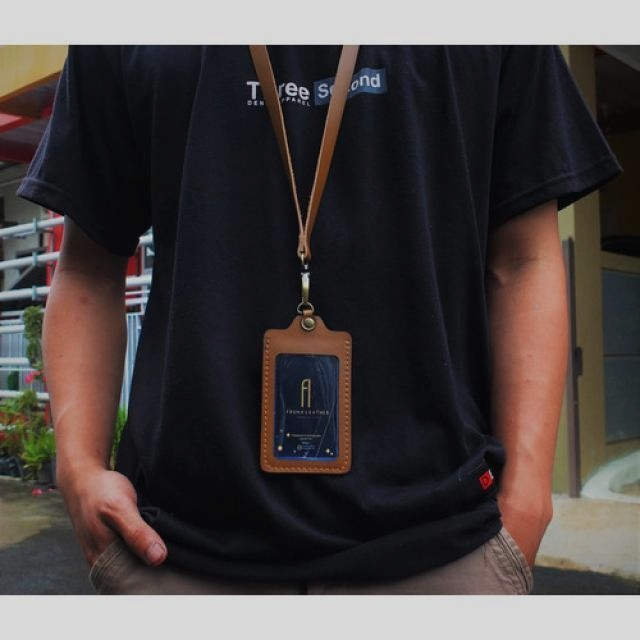ID_card: (243, 48, 372, 475)
